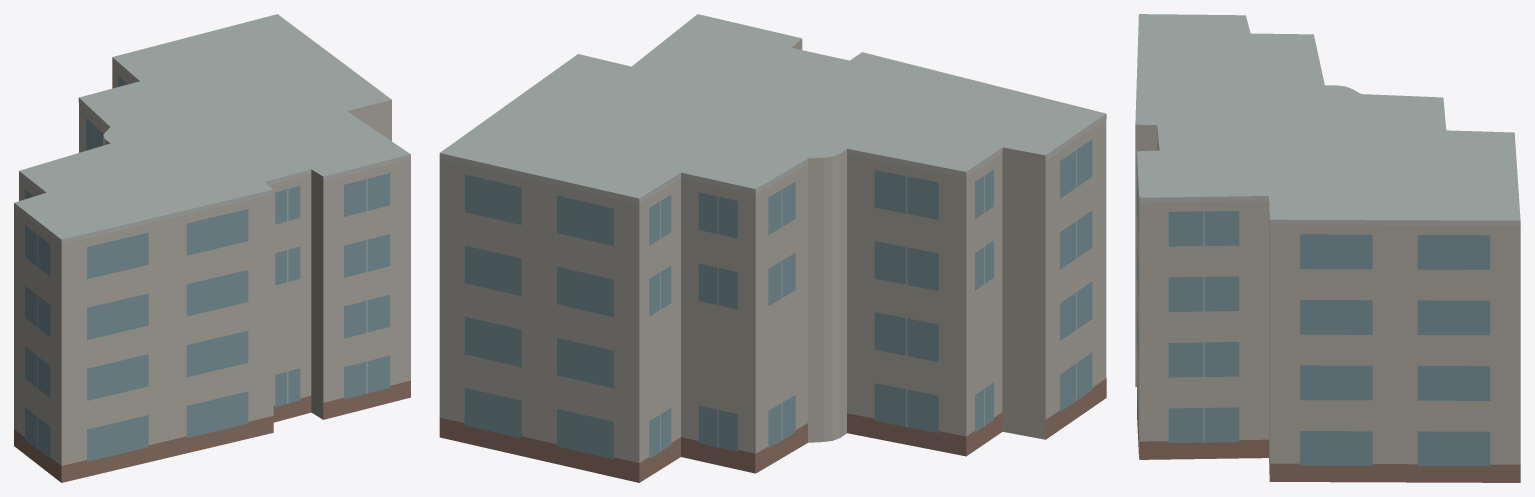
The model's file is survey-upis-32502071.glb.
The picture shows the model from 3 angles, left to right: view 1: azimuth 30°, elevation 25°; view 2: azimuth 150°, elevation 25°; view 3: azimuth 270°, elevation 25°; orthographic projection. The views are drawn at different scales.
Visible parts, largest first — view 1: survey-upis-32502071.tmp; view 2: survey-upis-32502071.tmp; view 3: survey-upis-32502071.tmp.
Boxes of the visible parts, bbox=[...] form: survey-upis-32502071.tmp: bbox=[14, 14, 410, 482]; survey-upis-32502071.tmp: bbox=[439, 14, 1106, 482]; survey-upis-32502071.tmp: bbox=[1135, 14, 1520, 482].
Bounding box in the file's own units: 21.84 × 12.9 × 17.2.
